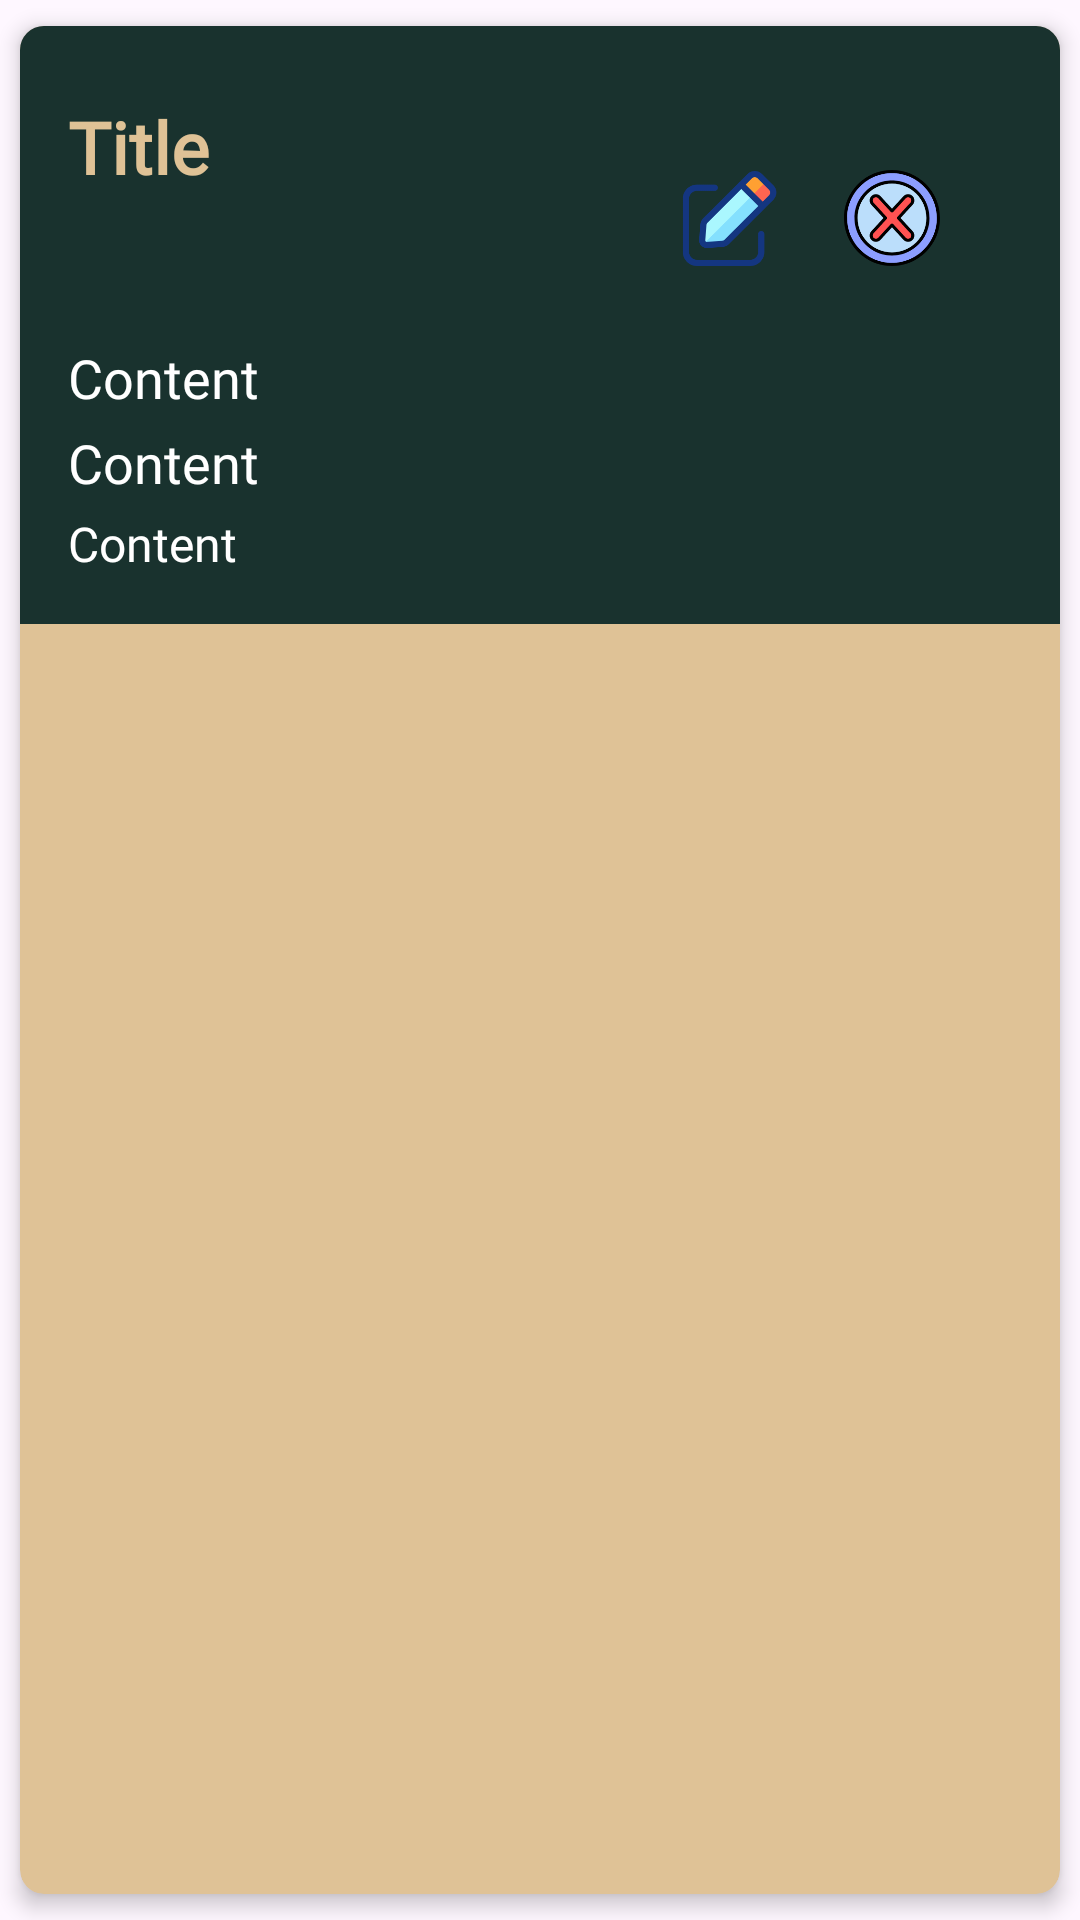

Icons on this 1080×1920 Android screen, each with the point to tap as point (x, y):
delete: point (892, 218)
edit: point (730, 218)
